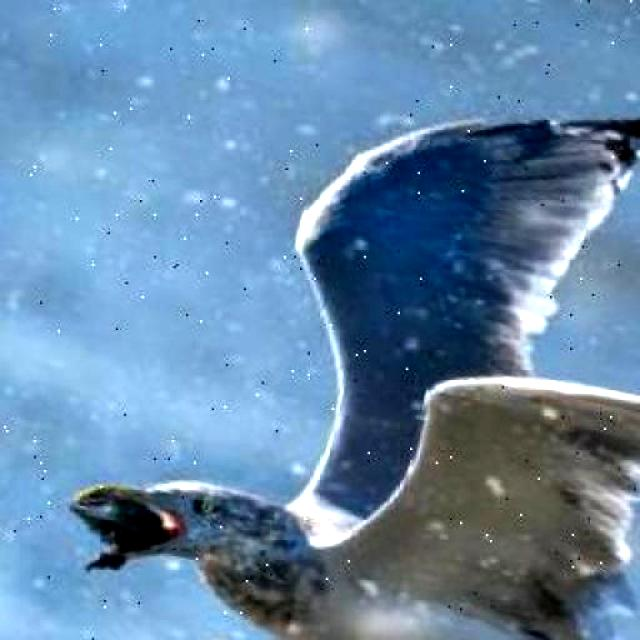airplane: (45, 6, 640, 640)
